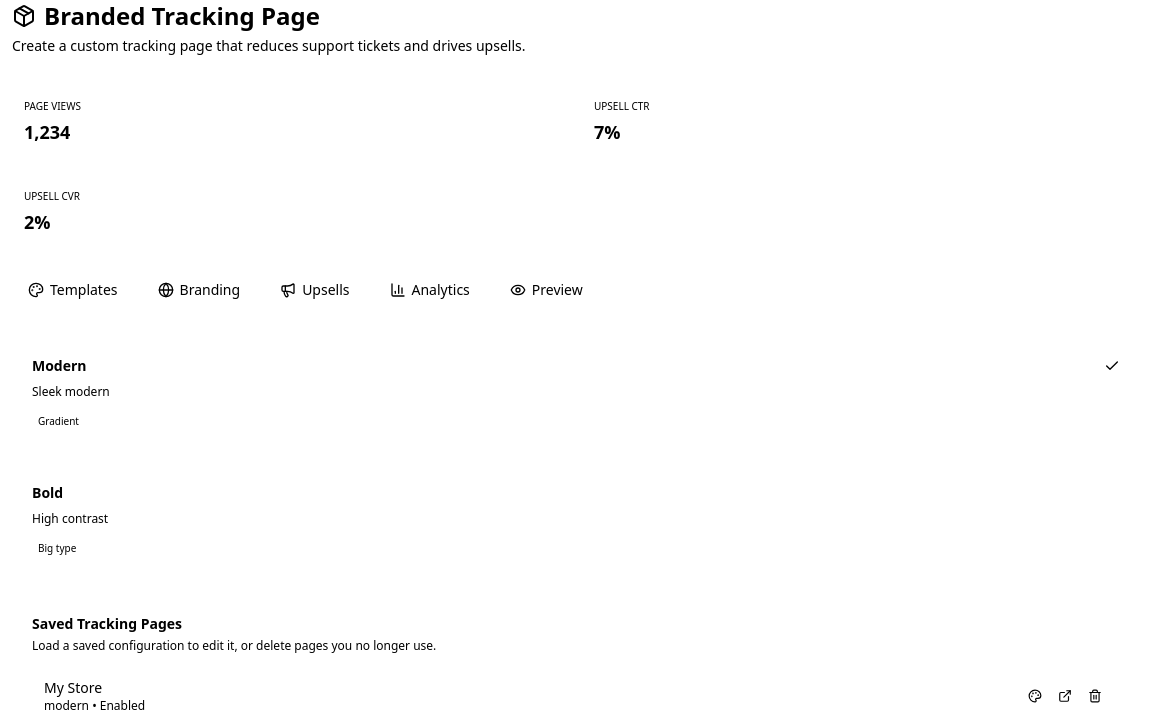
Test: TrackingPageManager › shows validation error when required fields are missing
Click the button "Branding" at (199, 290), box [142, 272, 256, 308]
(page scrolled)
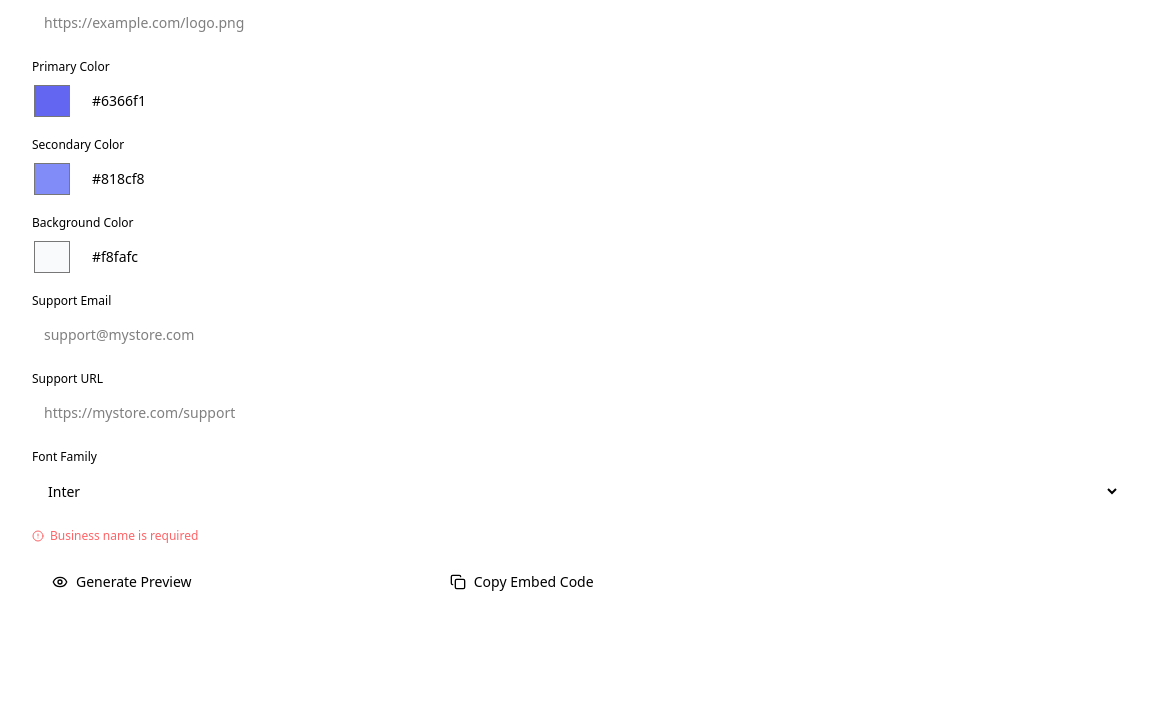
Check: the text "Business name is required" is shown, box [32, 527, 198, 544]
